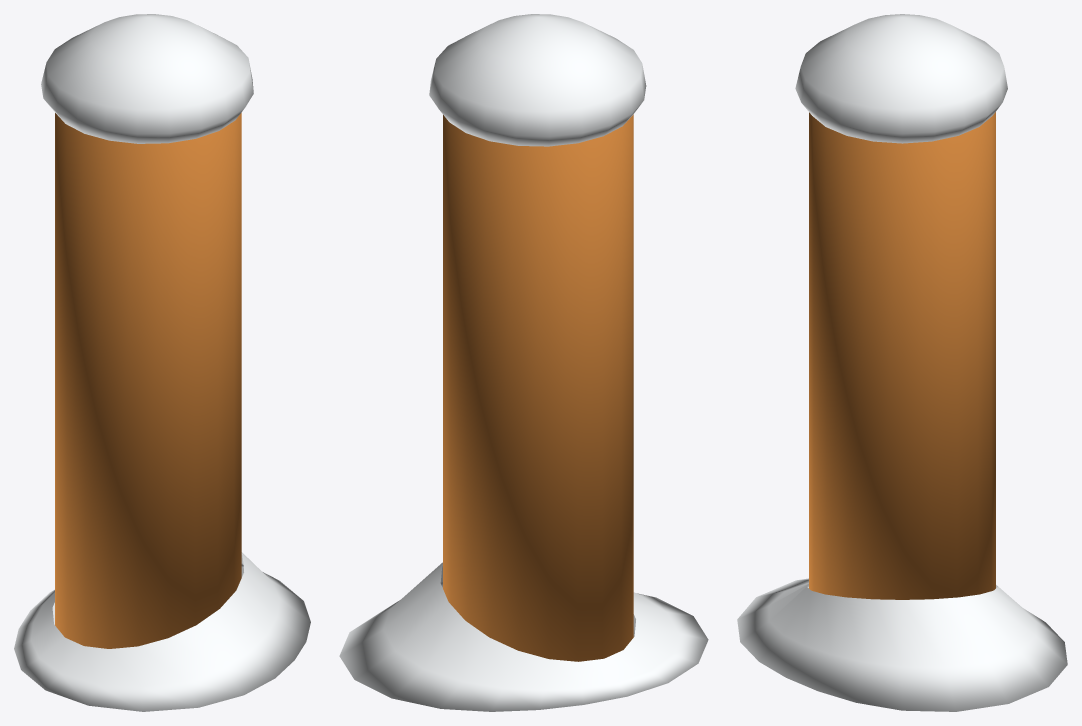
Rendered from Log_Single_04.glb.
3 renders of one model, left to right at view 1: azimuth 30°, elevation 25°; view 2: azimuth 150°, elevation 25°; view 3: azimuth 270°, elevation 25°, orthographic. The views are drawn at different scales.
Parts seen in each view (by area): view 1: Log_Single_04_Log, Log_Single_04_SnowBot, Log_Single_04_SnowTop; view 2: Log_Single_04_Log, Log_Single_04_SnowBot, Log_Single_04_SnowTop; view 3: Log_Single_04_Log, Log_Single_04_SnowBot, Log_Single_04_SnowTop.
Boxes of the visible parts, bbox=[...] form: Log_Single_04_Log: bbox=[55, 113, 241, 648]; Log_Single_04_SnowBot: bbox=[14, 552, 310, 711]; Log_Single_04_SnowTop: bbox=[41, 14, 253, 143]; Log_Single_04_Log: bbox=[443, 114, 633, 661]; Log_Single_04_SnowBot: bbox=[339, 562, 708, 711]; Log_Single_04_SnowTop: bbox=[429, 14, 646, 146]; Log_Single_04_Log: bbox=[809, 112, 995, 599]; Log_Single_04_SnowBot: bbox=[737, 578, 1067, 711]; Log_Single_04_SnowTop: bbox=[795, 14, 1007, 143].
Size of the model in its own units: 0.4073 by 0.842 by 0.4073.
